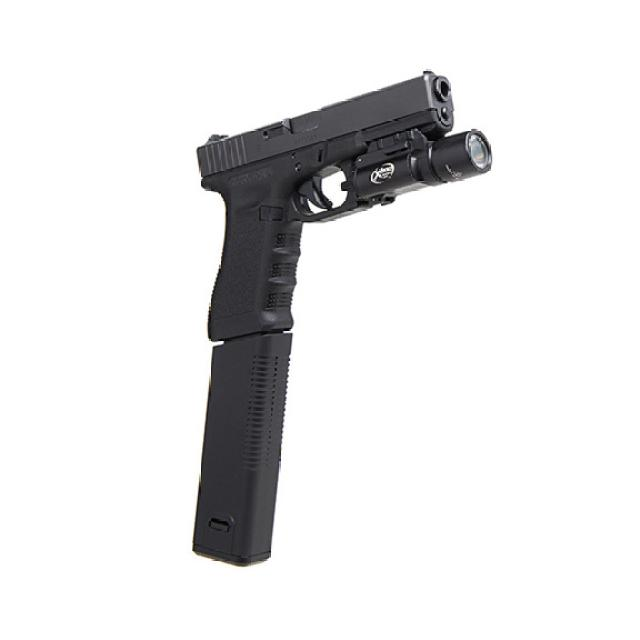HandGun: (197, 71, 494, 344)
